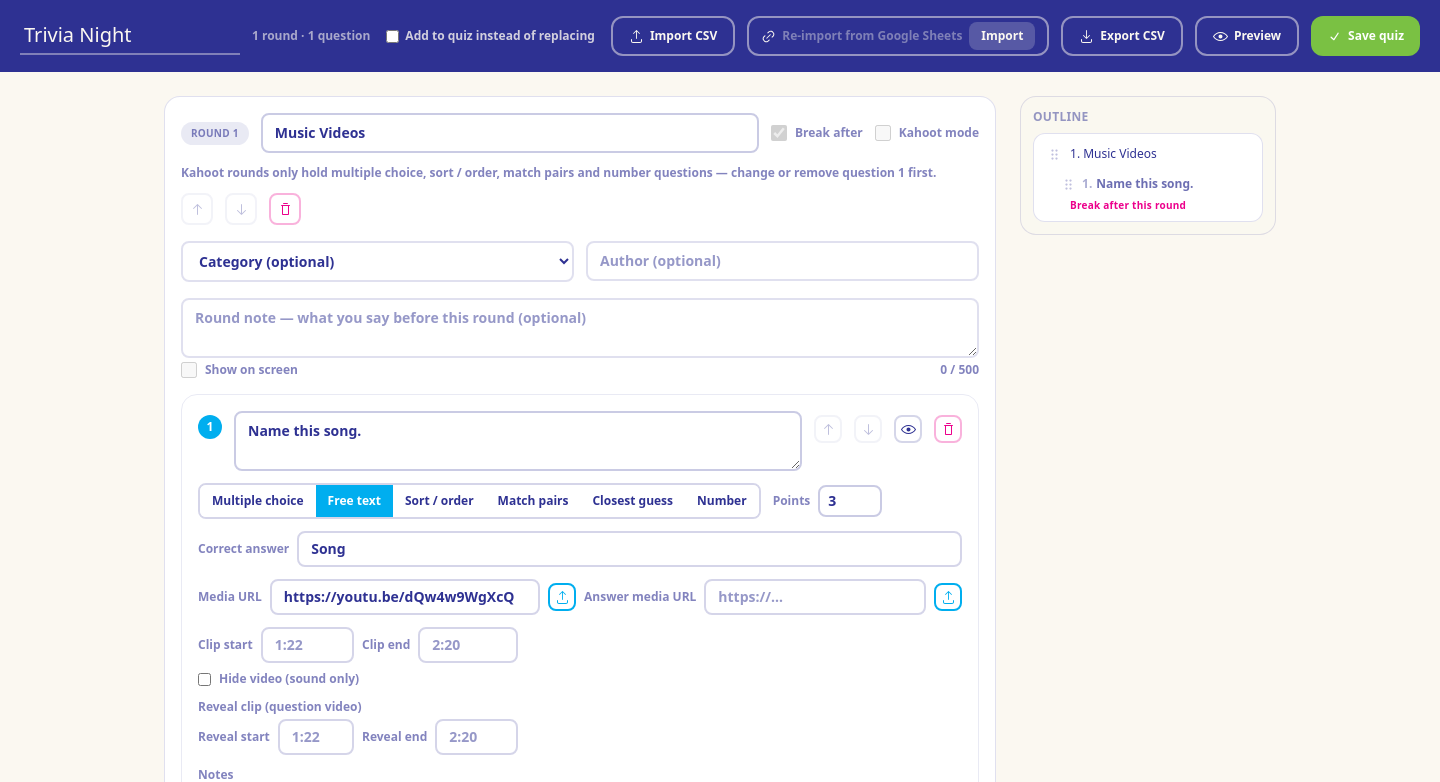
Scenario: QuizEditorPanel › shows the hide-video checkbox only for YouTube media and saves it as a field
Expected: the field showing "Trivia Night" in the row of "Add to quiz instead of replacing" is shown, [20,17,240,55]
Click the checkbox labelled "Hide video (sound only)" at (204, 679), box [198,672,211,686]
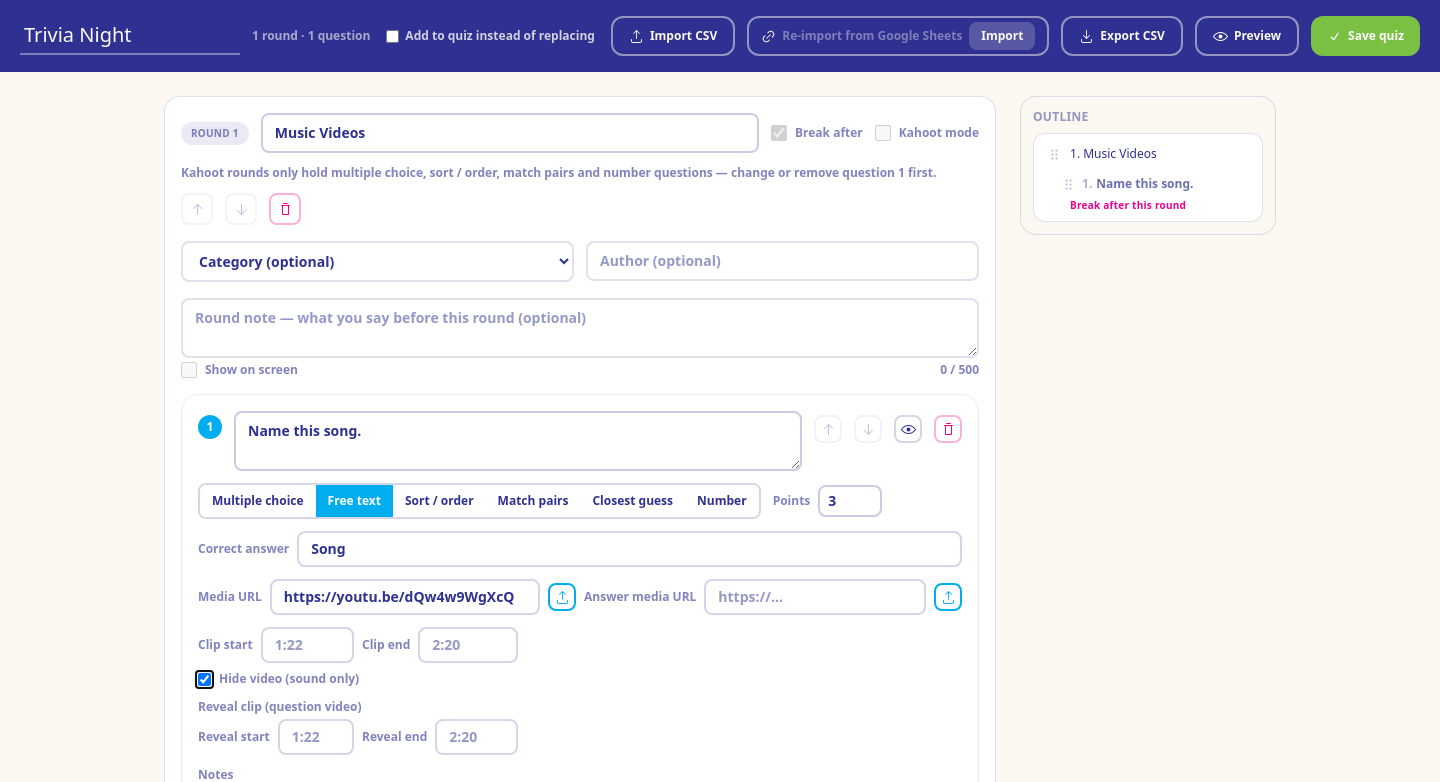
Click the button "Save quiz" at (1366, 36), box [1311,16,1420,56]
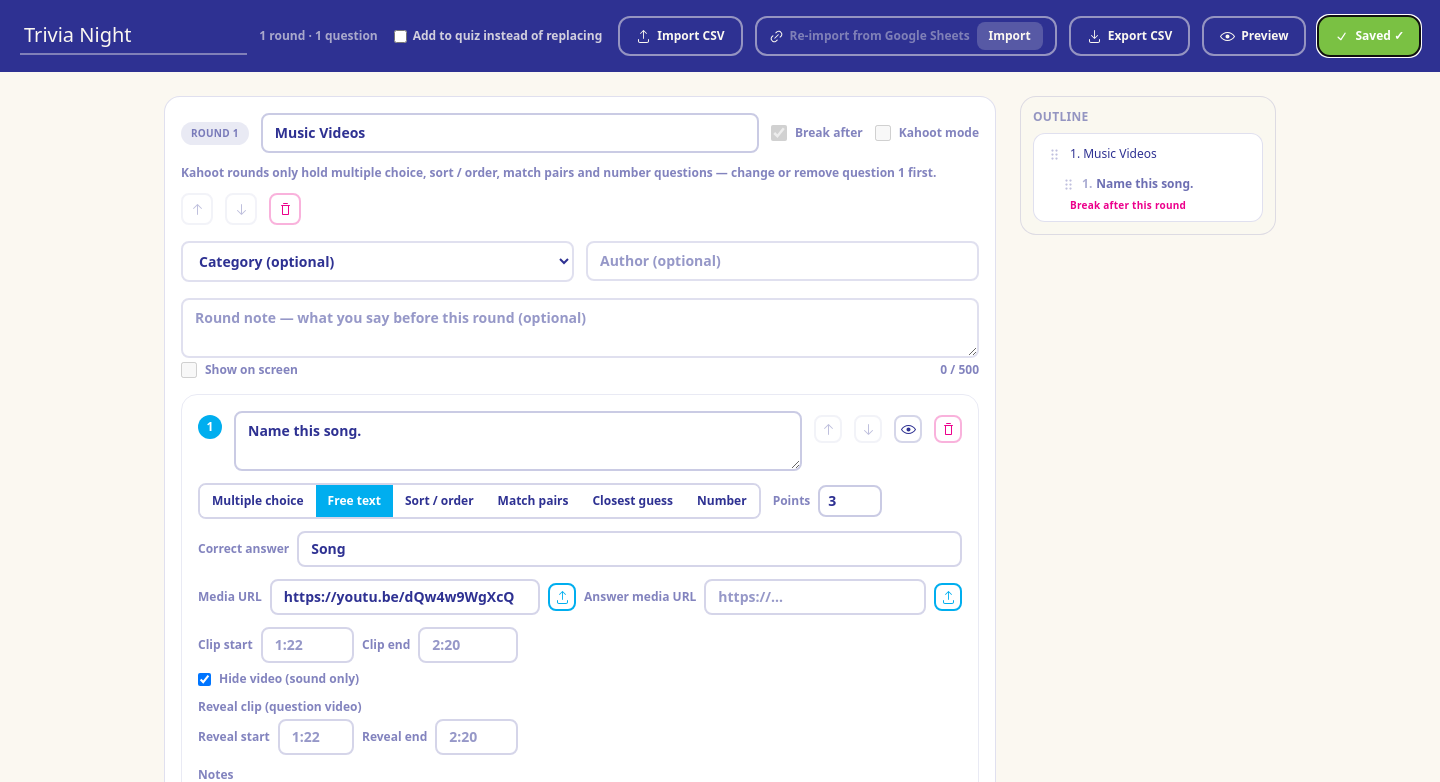
Clear the field labelled "Media URL" at (405, 597), box [270,579,540,615]
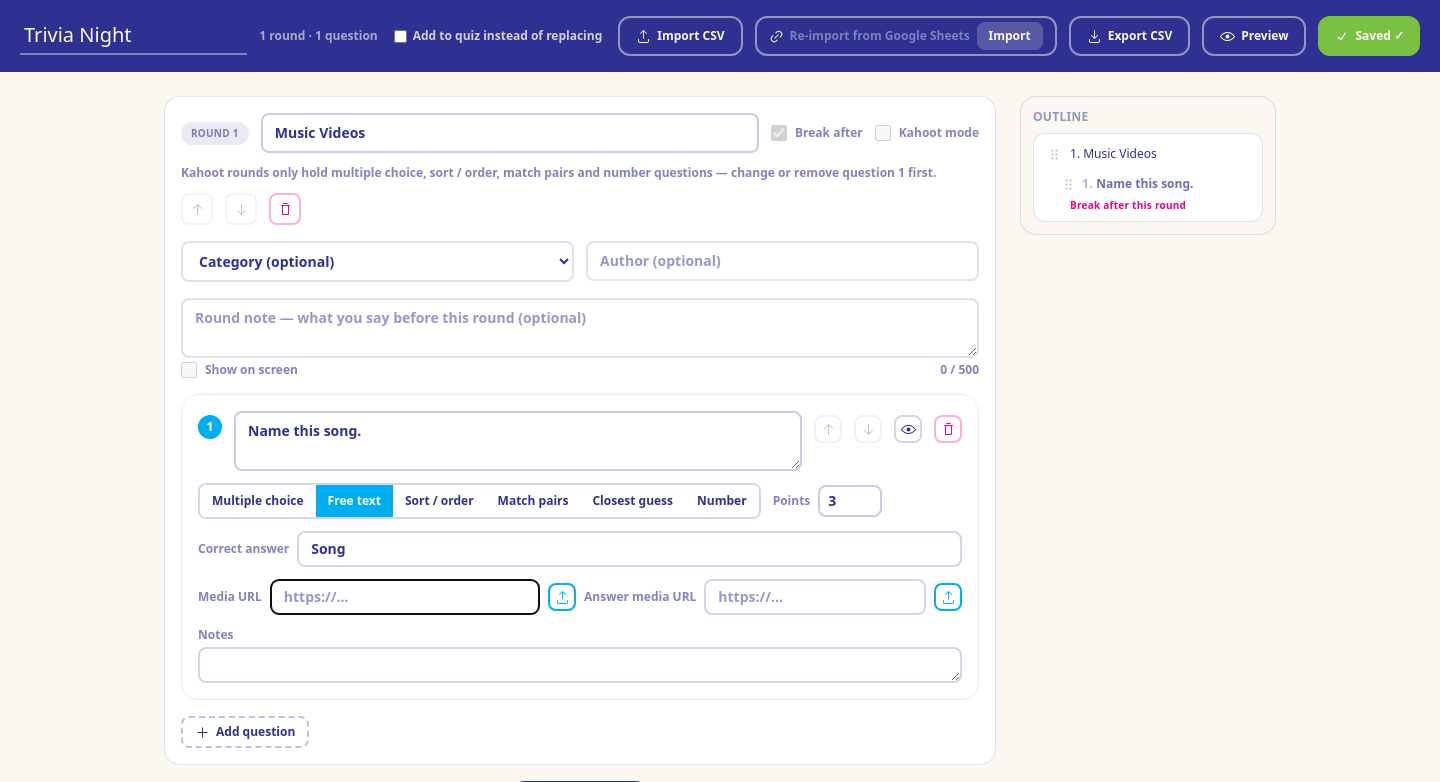
Result: the label labelled "Hide video (sound only)" is gone
